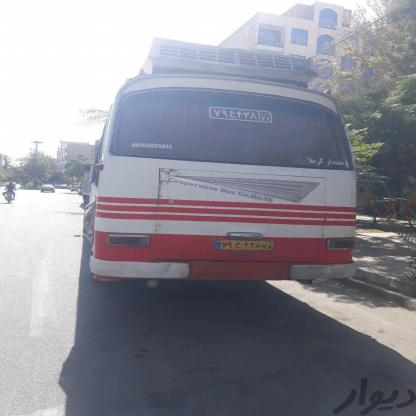Bus: (81, 34, 360, 308)
Car: (39, 184, 59, 196)
